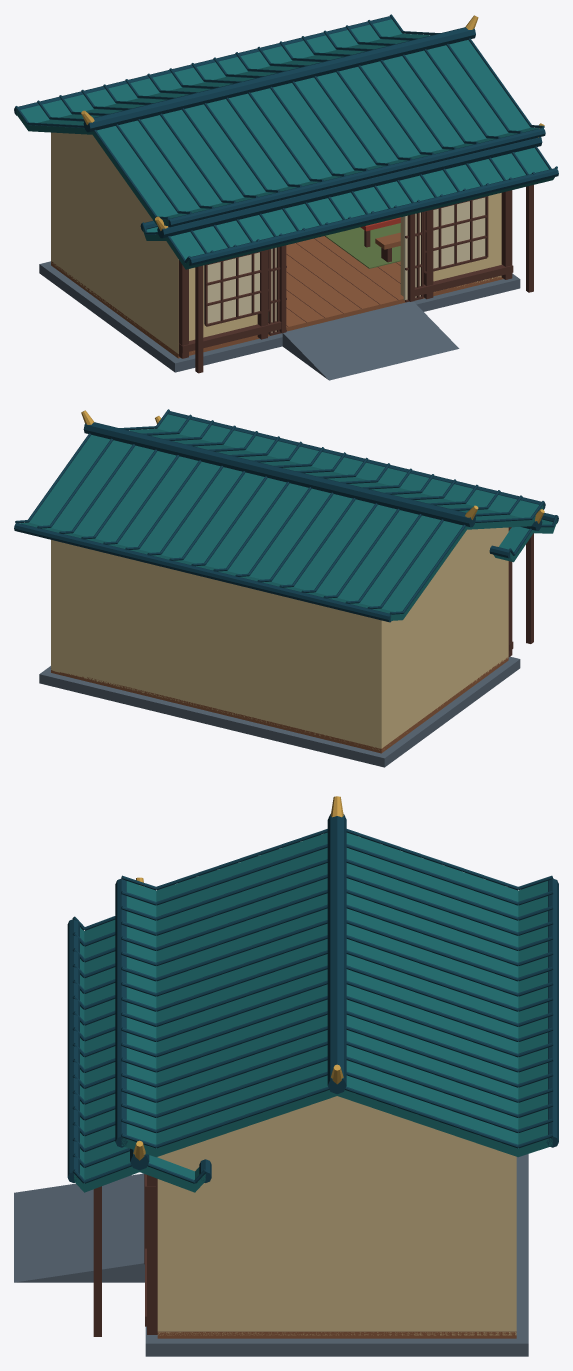
Rendered from tea_house_open.glb.
3 renders of one model, top to bottom at view 1: azimuth 30°, elevation 25°; view 2: azimuth 150°, elevation 25°; view 3: azimuth 270°, elevation 25°, orthographic. The views are drawn at different scales.
Visible parts, largest first — view 1: CP_Roof, CP_Floor, CP_Wall_Front, CP_Wall_Left, CP_Interior, CP_Wall_Back; view 2: CP_Roof, CP_Wall_Back, CP_Wall_Left, CP_Floor, CP_Wall_Front, CP_Wall_Right; view 3: CP_Roof, CP_Wall_Right, CP_Floor, CP_Wall_Front, CP_Wall_Back.
Part boxes in pixels (left/top/right/bottom): CP_Roof: left=14, top=14, right=558, bottom=269; CP_Floor: left=39, top=236, right=520, bottom=380; CP_Wall_Front: left=173, top=185, right=533, bottom=373; CP_Wall_Left: left=51, top=132, right=178, bottom=353; CP_Interior: left=325, top=217, right=400, bottom=268; CP_Wall_Back: left=51, top=133, right=55, bottom=263; CP_Roof: left=14, top=409, right=558, bottom=622; CP_Wall_Back: left=51, top=540, right=386, bottom=749; CP_Wall_Left: left=372, top=527, right=508, bottom=750; CP_Floor: left=39, top=656, right=520, bottom=767; CP_Wall_Front: left=508, top=527, right=533, bottom=657; CP_Wall_Right: left=51, top=540, right=59, bottom=672; CP_Roof: left=67, top=796, right=558, bottom=1192; CP_Wall_Right: left=157, top=1145, right=516, bottom=1335; CP_Floor: left=14, top=1154, right=528, bottom=1356; CP_Wall_Front: left=93, top=1155, right=171, bottom=1336; CP_Wall_Back: left=502, top=1152, right=516, bottom=1335.
Bounding box in the file's own units: 10.8 × 5.66 × 9.11.
